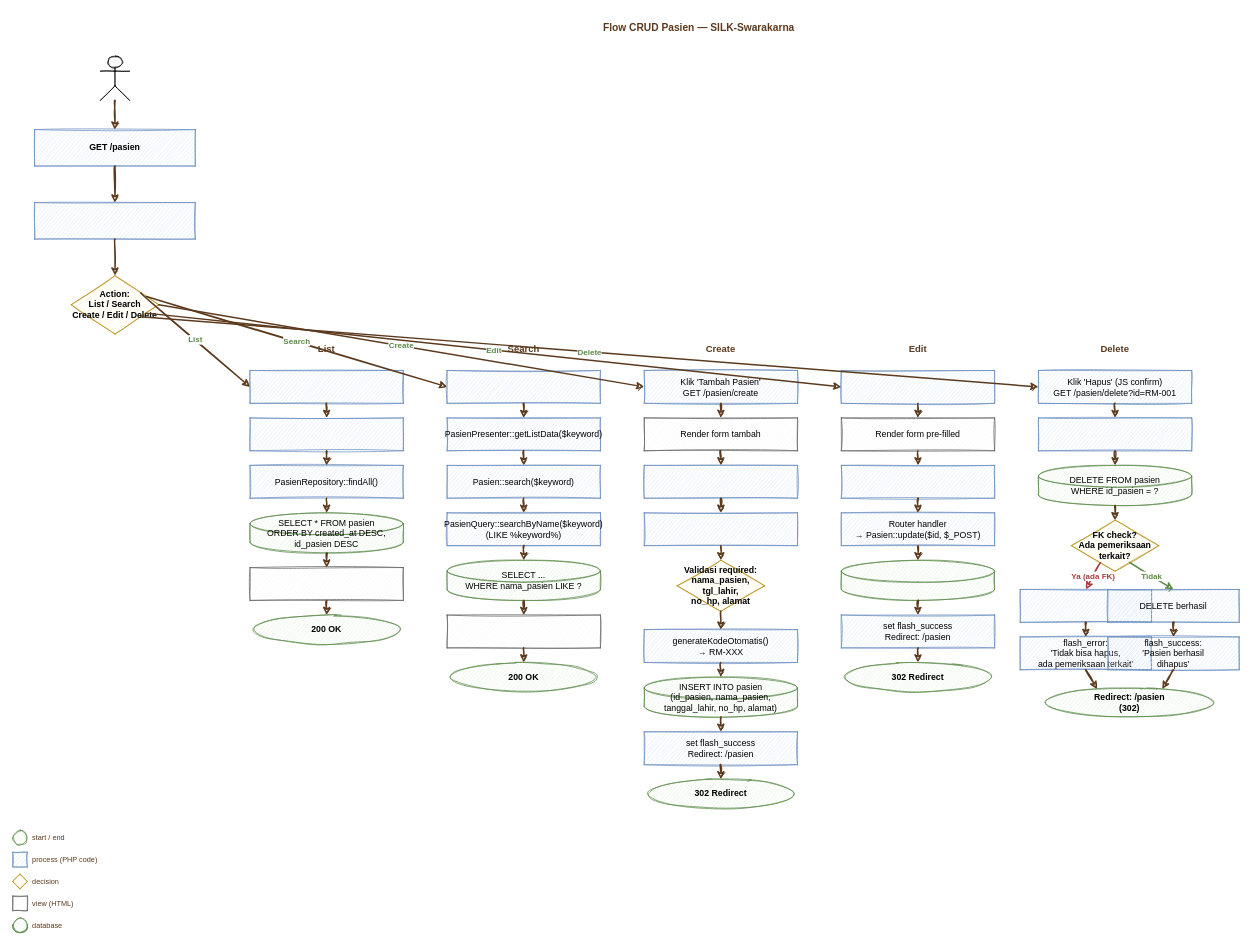
Image size: 1252x945. Some labels were removed from this diagram. Here are the shapes that lost their labels. From the top down, the centre of each, then its label:
the point at 115,78: Admin
the point at 114,220: public/index.php Router: parse URL
the point at 326,386: PasienPresenter::getListData()
the point at 523,386: User ketik keyword GET /pasien?q=...
the point at 918,386: Klik 'Edit' GET /pasien/edit?id=RM-001
the point at 326,434: Pasien::read()
the point at 1115,434: Router GET handler → Pasien::delete($id)
the point at 720,481: Submit form POST /pasien
the point at 918,481: Submit form POST /pasien/update
the point at 720,529: Router handler → Pasien::create($_POST)
the point at 326,583: views/pasien/index.php (Bootstrap table)
the point at 918,580: UPDATE pasien SET ... WHERE id_pasien = ?
the point at 1085,605: PDOException 23000 → return false
the point at 523,631: views/pasien/index.php (tabel terfilter)
